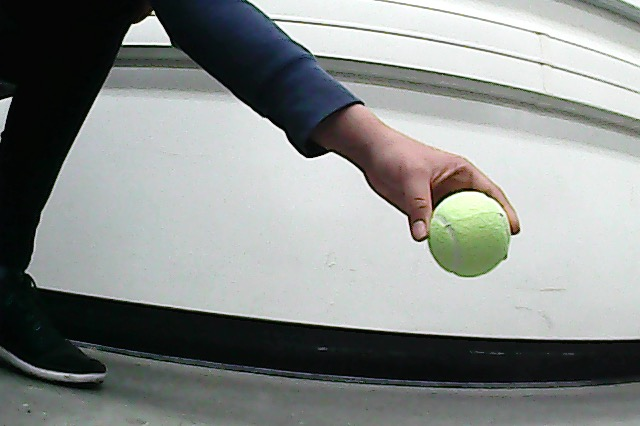ball: (425, 188, 515, 281)
